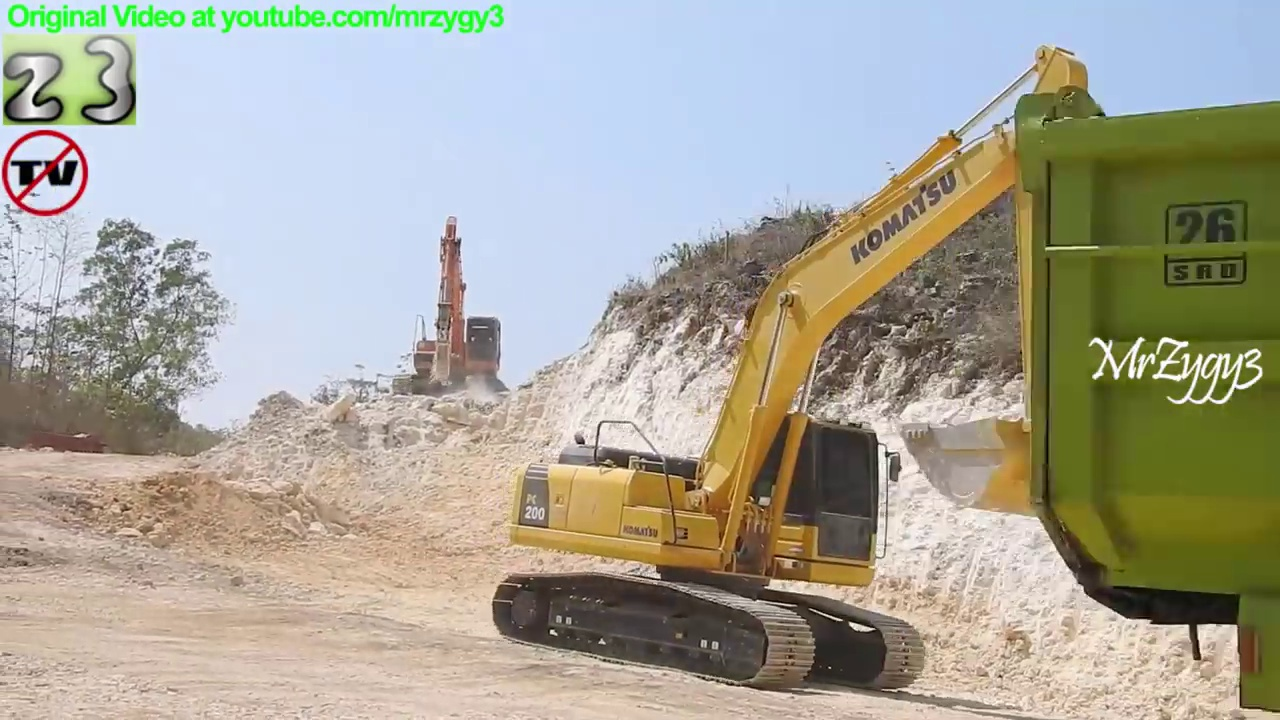excavator: (489, 41, 1117, 698), (1012, 81, 1280, 720), (391, 209, 515, 414)
truck: (24, 427, 113, 482)
